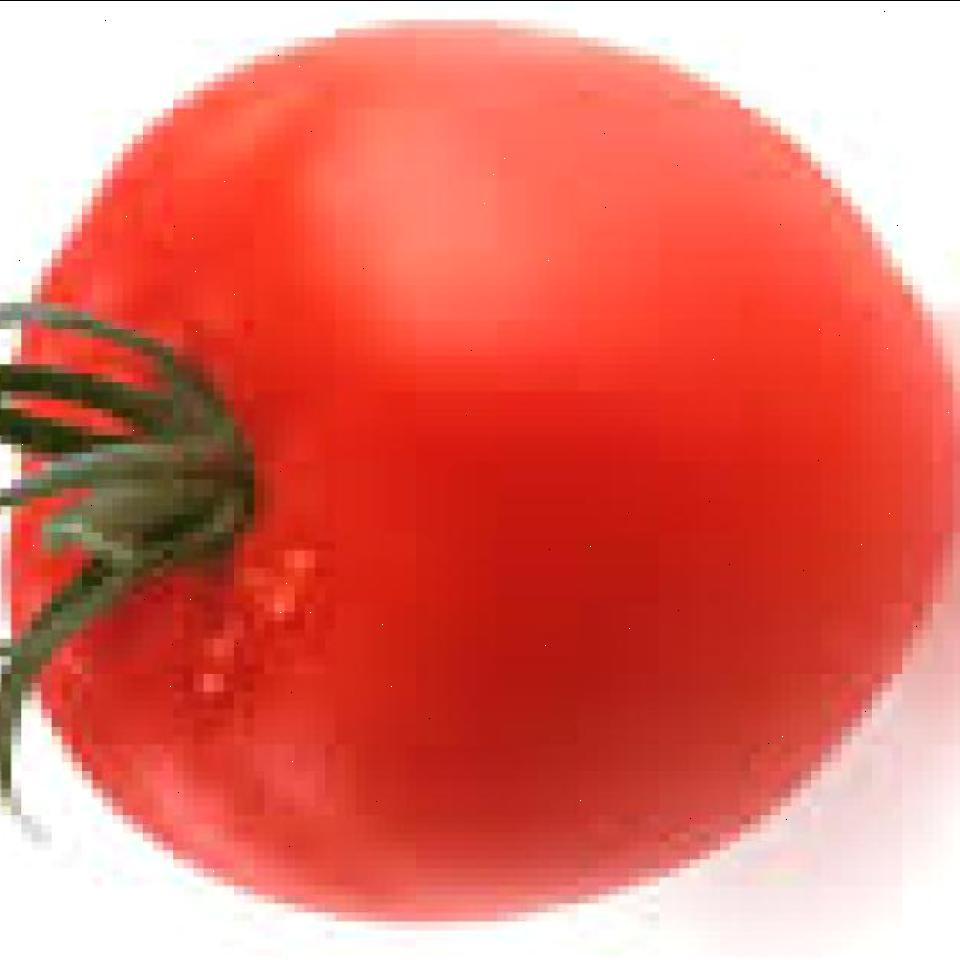Healthy: (0, 0, 960, 888)
